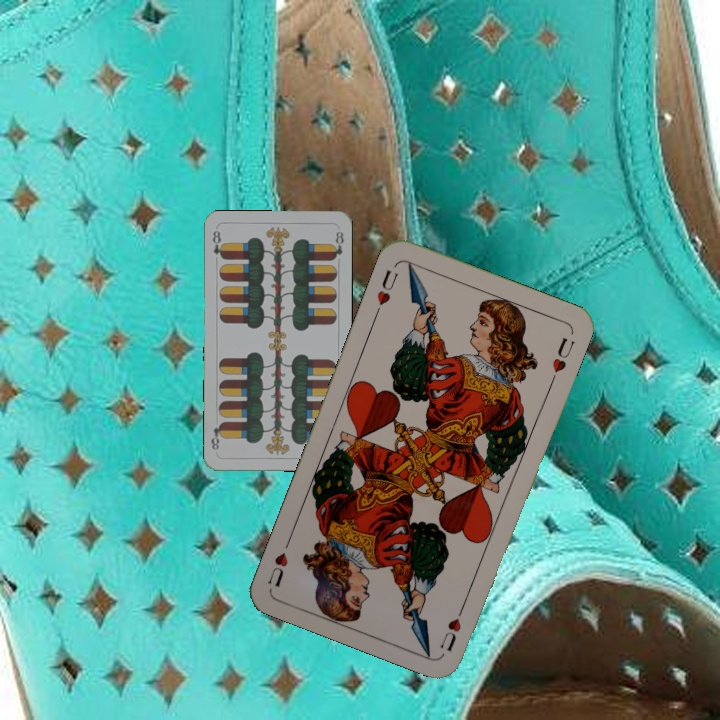E8: (208, 227, 227, 262)
HU: (436, 599, 468, 654), (371, 265, 401, 318)
